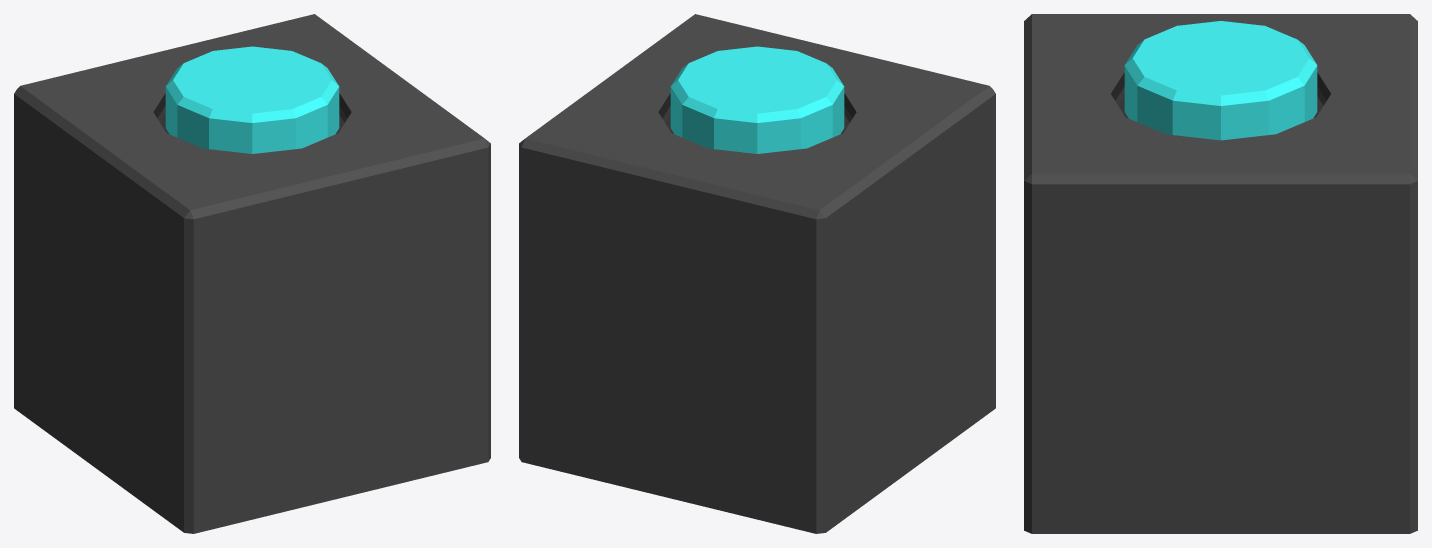
The model's file is HJD_SFB_Button_02.fbx.
3 views of the same model, side by side, from view 1: azimuth 30°, elevation 25°; view 2: azimuth 150°, elevation 25°; view 3: azimuth 270°, elevation 25° (orthographic). The views are drawn at different scales.
Parts seen in each view (by area): view 1: Base, Cap; view 2: Base, Cap; view 3: Base, Cap.
Boxes of the visible parts, x1=… form: Base: x1=14, y1=14, x2=490, y2=533; Cap: x1=165, y1=46, x2=339, y2=153; Base: x1=519, y1=14, x2=995, y2=533; Cap: x1=670, y1=46, x2=844, y2=153; Base: x1=1024, y1=14, x2=1417, y2=533; Cap: x1=1124, y1=21, x2=1317, y2=140.
Size of the model in its own units: 100 by 110 by 100.
